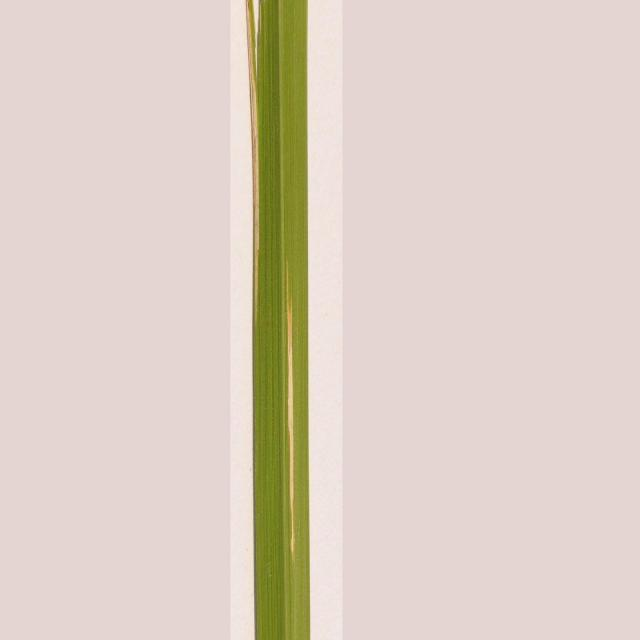leaf blight: (237, 1, 265, 308), (277, 266, 305, 569)
